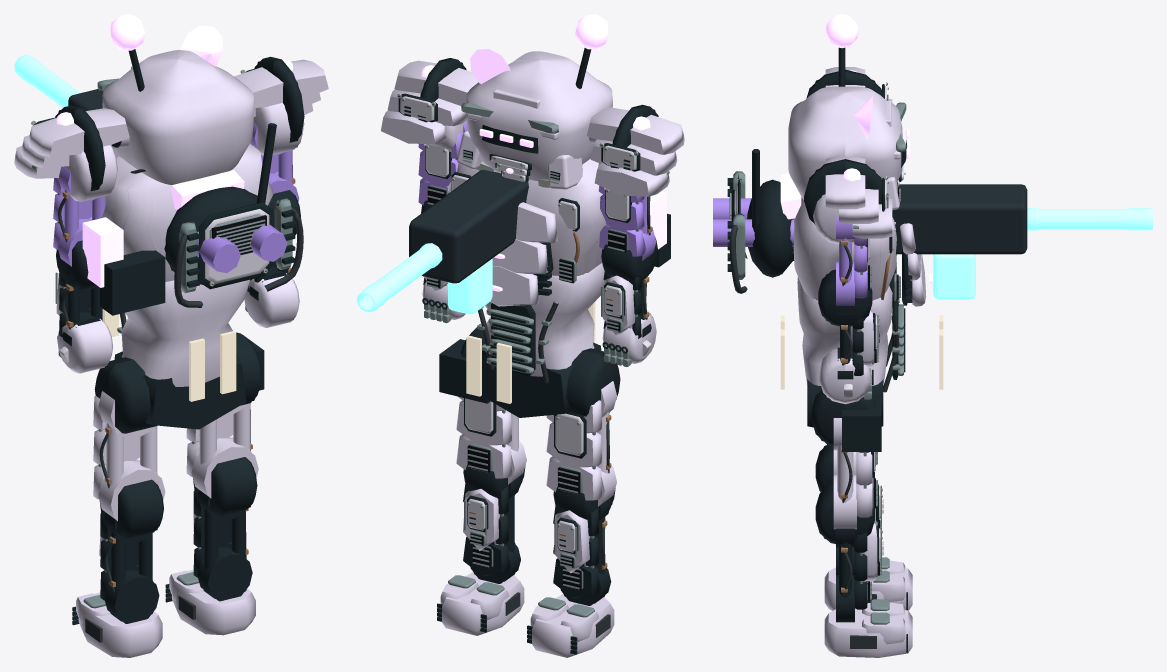
Rendered from qwen.glb.
The picture shows the model from 3 angles, left to right: view 1: azimuth 30°, elevation 25°; view 2: azimuth 150°, elevation 25°; view 3: azimuth 270°, elevation 25°; orthographic projection. The views are drawn at different scales.
Visible parts, largest first — view 1: LOD3_Batch8, LOD3_Batch48, LOD1_Batch4, LOD3_Batch43, LOD3_Batch61, LOD3_Batch56, LOD3_Batch23, LOD3_Batch69, LOD3_Batch52, LOD7_Batch39, LOD3_Batch65, LOD3_Batch50 (+38 smaller); view 2: LOD3_Batch8, LOD3_Batch43, LOD7_Batch41, LOD3_Batch23, LOD3_Batch48, LOD3_Batch36, LOD7_Batch42, LOD3_Batch56, LOD1_Batch49, LOD3_Batch50, LOD3_Batch59, LOD3_Batch69 (+38 smaller); view 3: LOD7_Batch41, LOD3_Batch8, LOD3_Batch43, LOD7_Batch42, LOD3_Batch48, LOD3_Batch59, LOD3_Batch36, LOD3_Batch65, LOD3_Batch3, LOD3_Batch61, LOD3_Batch31, LOD3_Batch33 (+19 smaller).
Boxes of the visible parts, x1,y1,x2,y2 form: LOD3_Batch8: (102,50,254,184); LOD3_Batch48: (121,279,250,386); LOD1_Batch4: (174,198,303,307); LOD3_Batch43: (91,143,273,281); LOD3_Batch61: (193,488,252,601); LOD3_Batch56: (93,391,165,520); LOD3_Batch23: (14,108,129,178); LOD3_Batch69: (114,351,245,429); LOD3_Batch52: (100,511,159,623); LOD7_Batch39: (100,250,165,315); LOD3_Batch65: (186,403,258,497); LOD3_Batch50: (76,592,162,657); LOD3_Batch8: (457,51,612,189); LOD3_Batch43: (447,159,606,306); LOD7_Batch41: (409,170,528,283); LOD3_Batch23: (586,107,684,196); LOD3_Batch48: (485,263,604,376); LOD3_Batch36: (381,60,478,144); LOD7_Batch42: (357,243,492,314); LOD3_Batch56: (546,381,616,506); LOD1_Batch49: (477,301,558,383); LOD3_Batch50: (530,594,614,657); LOD3_Batch59: (440,572,524,635); LOD3_Batch69: (481,342,601,417); LOD7_Batch41: (889,184,1027,299); LOD3_Batch8: (788,86,902,210); LOD3_Batch43: (793,197,926,306); LOD7_Batch42: (933,208,1152,299); LOD3_Batch48: (797,277,892,385); LOD3_Batch59: (824,602,912,657); LOD3_Batch36: (825,156,892,238); LOD3_Batch65: (833,418,872,528); LOD3_Batch3: (747,179,793,276); LOD3_Batch61: (836,528,867,622); LOD3_Batch31: (819,311,873,404); LOD3_Batch33: (836,217,867,305).
Bounding box in the file's own units: 0.9257 × 1.96 × 1.33.
